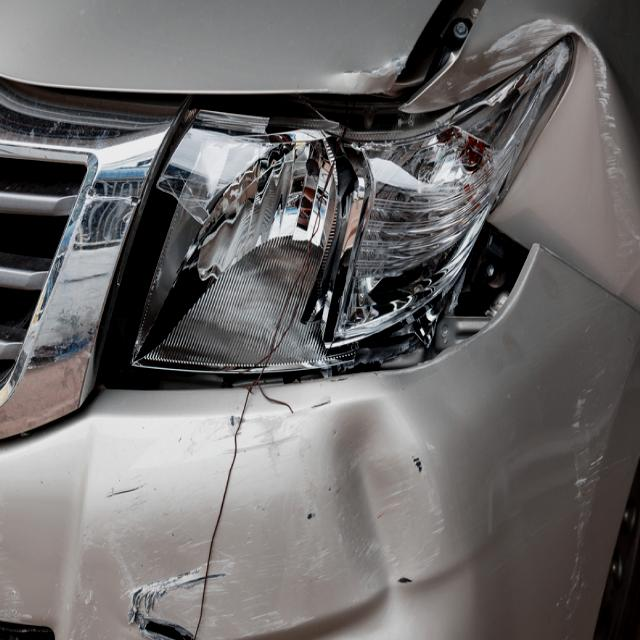Cabossage: (325, 395, 476, 640)
Dechirure: (126, 570, 231, 640), (0, 583, 58, 640)
Phare abime: (70, 69, 558, 408)
Rayure: (490, 13, 640, 304), (563, 352, 606, 640), (106, 485, 153, 519)
